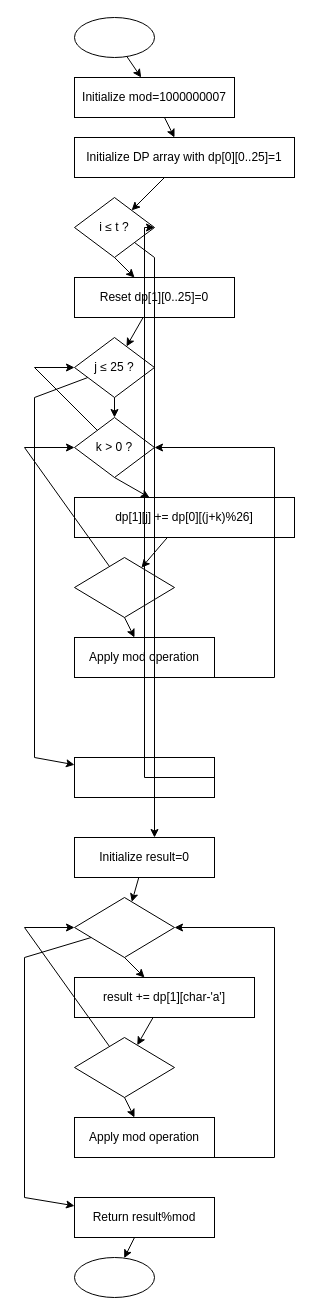
This 312x1315 diagram has some shape labels left out. Here are the shapes that lost their labels. From the top down, the centre of each, then its label:
(114,37): Start
(124,587): dp[1][j] overflow?
(144,777): Copy dp[1] to dp[0]
(124,927): More chars in s?
(124,1067): result overflow?
(114,1277): End
